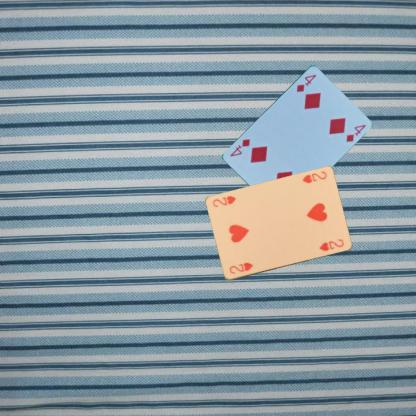2h: (300, 169, 327, 185), (226, 260, 254, 275)
4d: (293, 72, 318, 93)
